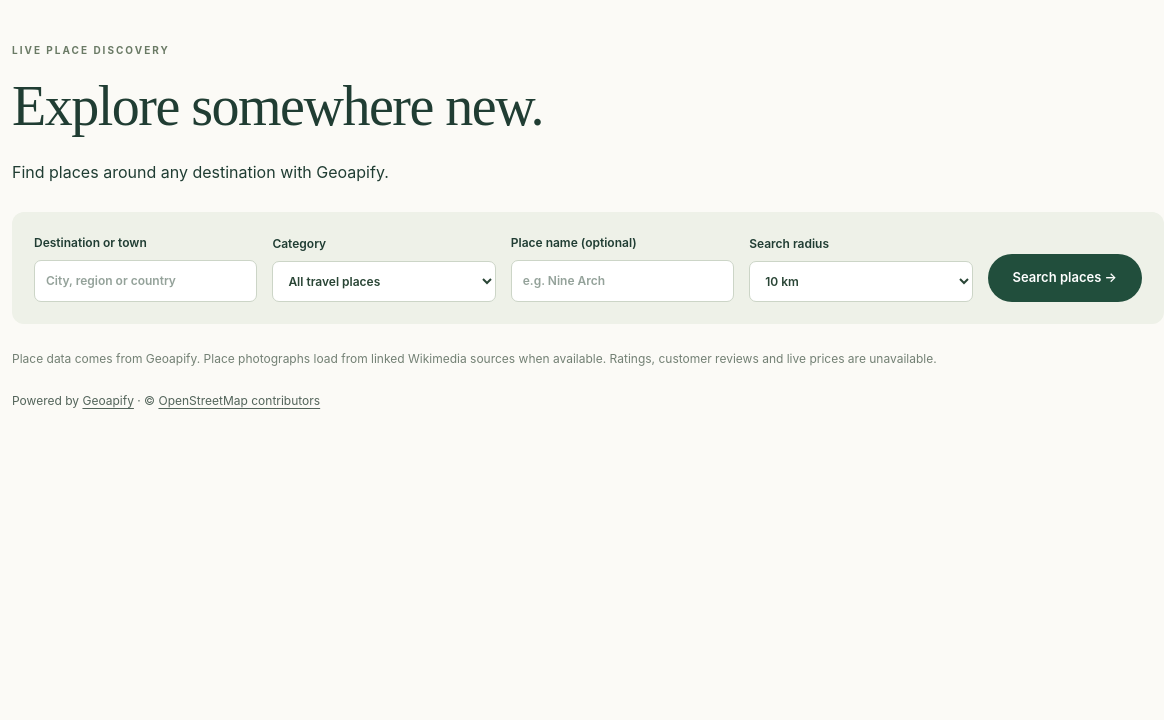
Test case: Geoapify search › does not substitute a local or area photograph when the place has no media
The width and height of the screenshot is (1164, 720).
Type "London, UK" into the field labelled "Destination or town" at (146, 280), box [34,260,257,302]
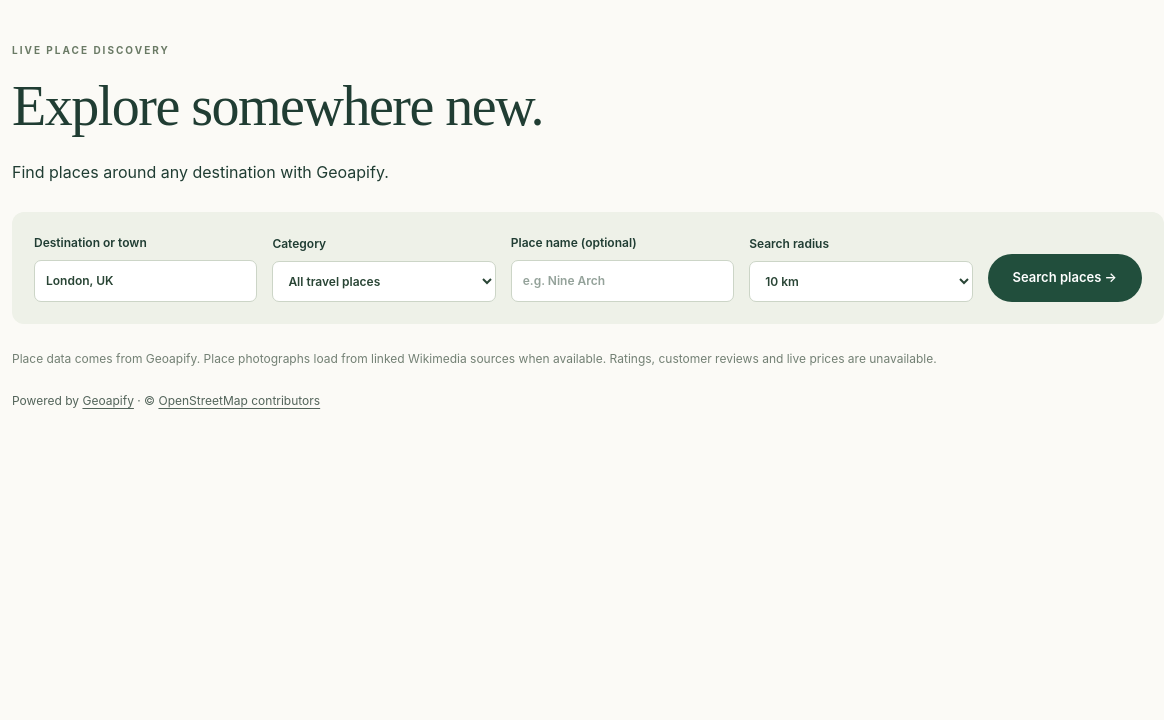
Click the button "Search places →" at (1065, 278), box [988,254,1142,302]
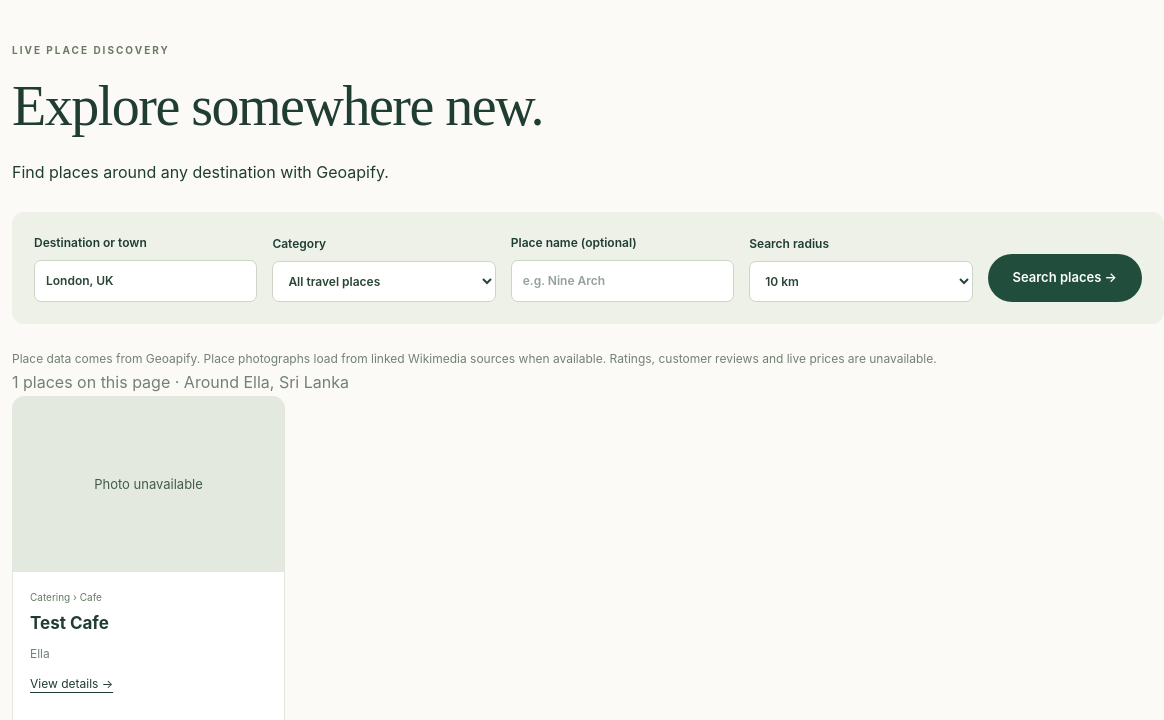
Check: the heading "Test Cafe" is shown, box [30,613,109,633]
Check: the text "Photo unavailable" is shown, box [13,397,284,572]
